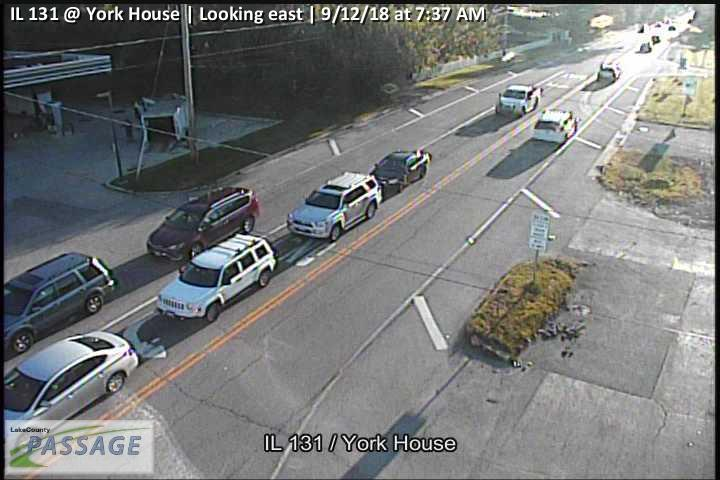SUV: (4, 251, 118, 359), (154, 233, 279, 322), (146, 186, 262, 259), (285, 170, 383, 243)
Sedan: (1, 330, 138, 438), (369, 147, 432, 193), (532, 108, 577, 145), (595, 58, 623, 83)
Truck: (494, 82, 542, 115)
